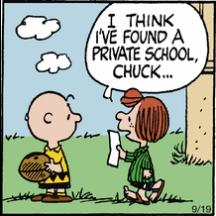charlie: (22, 90, 81, 204)
